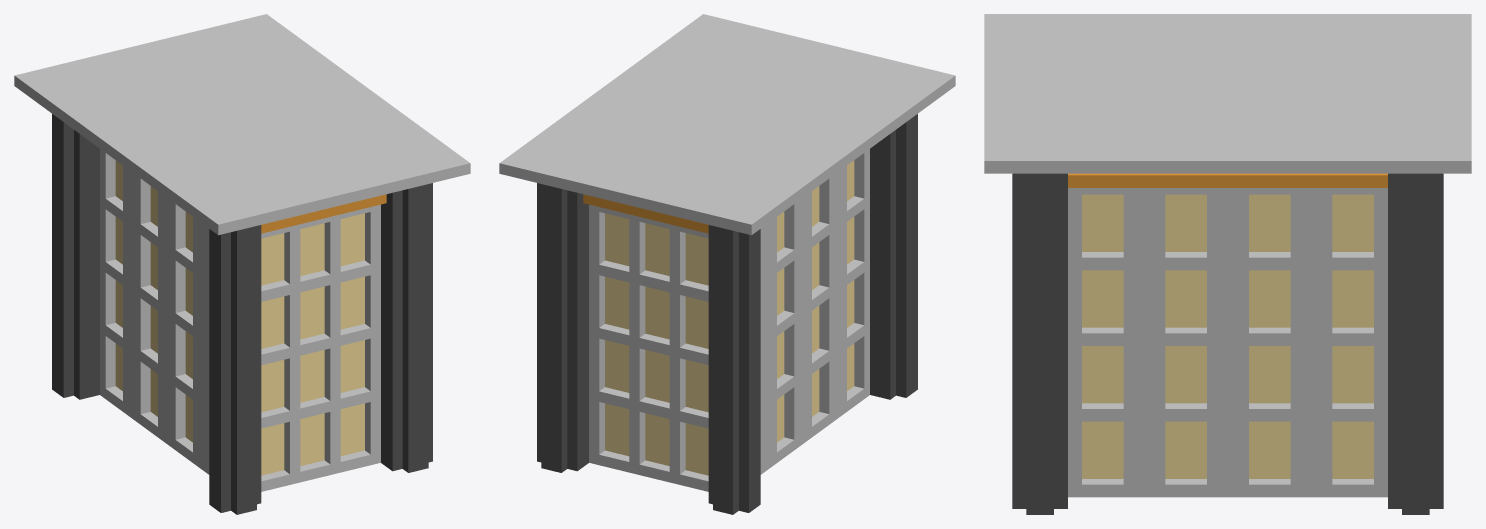
Rendered from TwentyFourModel.fbx.
3 views of the same model, side by side, from view 1: azimuth 30°, elevation 25°; view 2: azimuth 150°, elevation 25°; view 3: azimuth 270°, elevation 25° (orthographic). The views are drawn at different scales.
Parts seen in each view (by area): view 1: Box; view 2: Box; view 3: Box.
Boxes of the visible parts, box(x1,y1,x2,y2) form: Box: box(14, 14, 470, 514); Box: box(499, 14, 955, 514); Box: box(984, 14, 1471, 514).
Size of the model in its own units: 25 by 29 by 35.
Materials: 1 (1 with a texture image).
